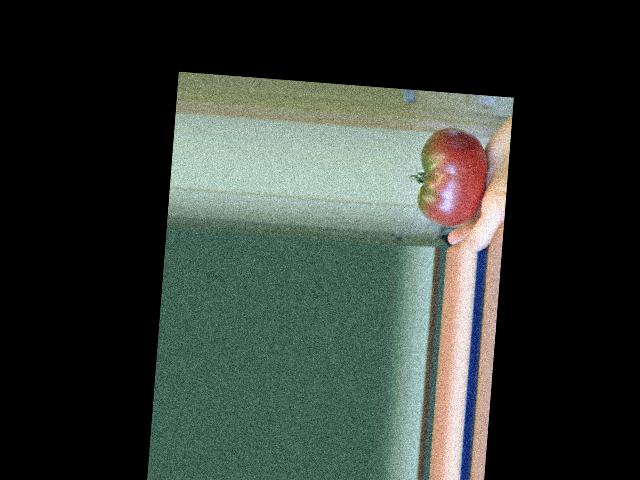tomato: (415, 125, 490, 228)
